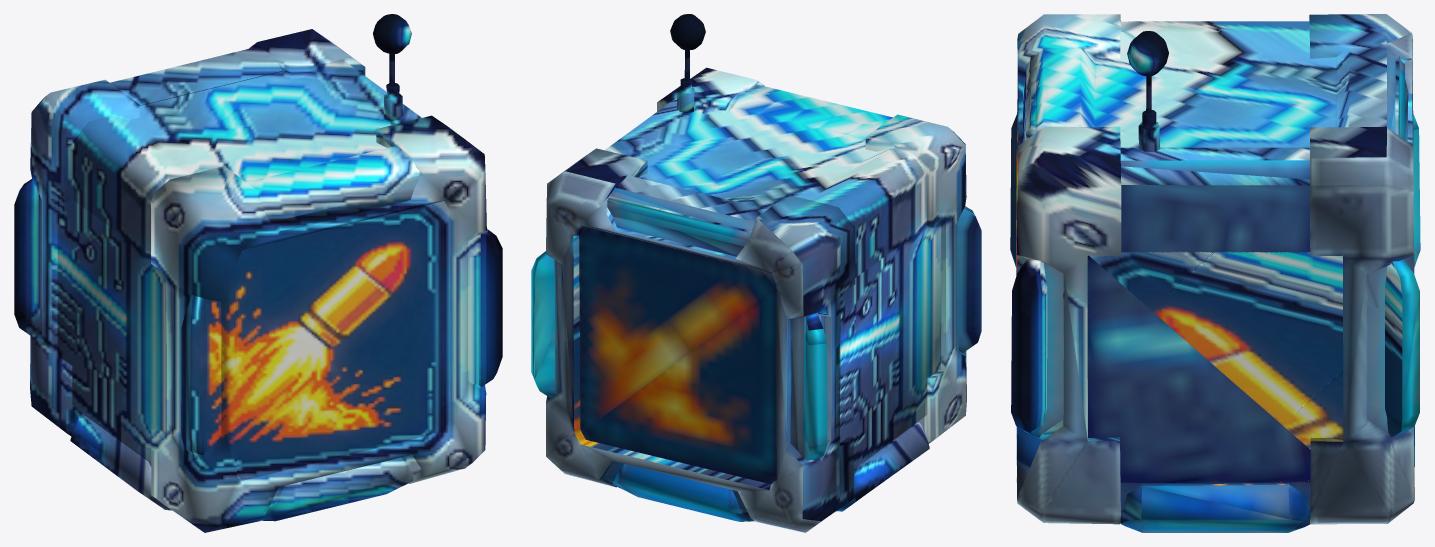
The model's file is loot_big_bullet.glb.
The picture shows the model from 3 angles, left to right: view 1: azimuth 30°, elevation 25°; view 2: azimuth 150°, elevation 25°; view 3: azimuth 270°, elevation 25°; orthographic projection. The views are drawn at different scales.
Visible parts, largest first — view 1: geometry_0; view 2: geometry_0; view 3: geometry_0.
Part boxes in pixels (x1,y1,x2,y2): geometry_0: [14, 14, 502, 532]; geometry_0: [531, 14, 981, 532]; geometry_0: [1010, 14, 1420, 532].
Size of the model in its own units: 0.7759 by 1 by 0.7653.
Materials: 1 (1 with a texture image).
